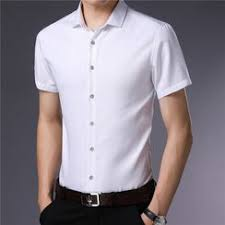F_shirt: (33, 1, 196, 194)
